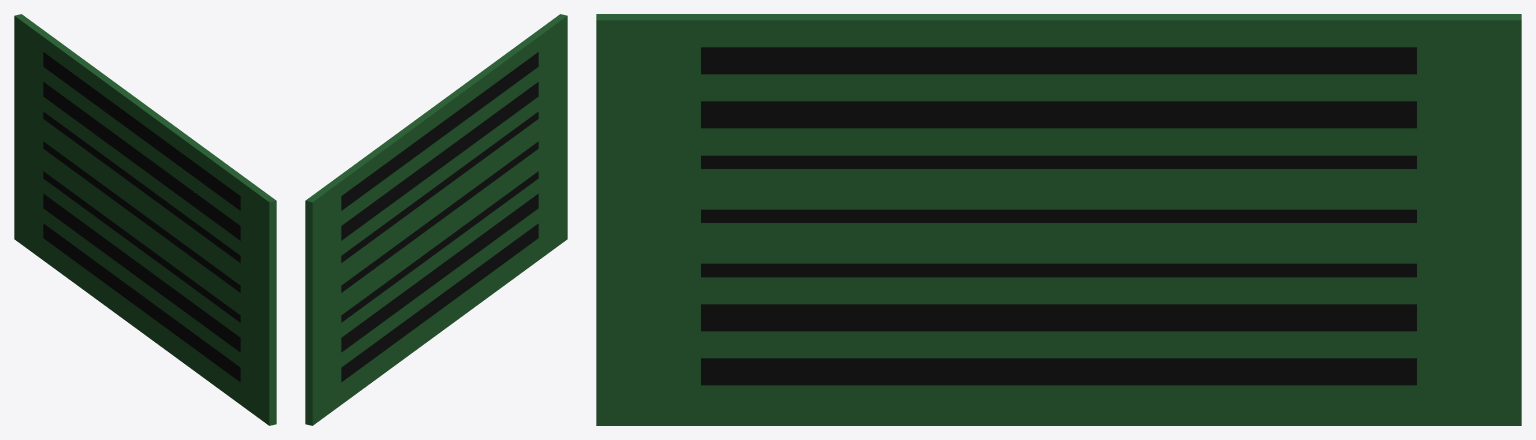
Rendered from tour_bus_open_top_rear_panel.glb.
3 renders of one model, left to right at view 1: azimuth 30°, elevation 25°; view 2: azimuth 150°, elevation 25°; view 3: azimuth 270°, elevation 25°, orthographic. The views are drawn at different scales.
Parts seen in each view (by area): view 1: body:compound; view 2: body:compound; view 3: body:compound.
Boxes of the visible parts, x1,y1,x2,y2 form: body:compound: (14,14,276,425); body:compound: (305,14,567,425); body:compound: (596,14,1521,425).
Bounding box in the file's own units: 0.0312 × 0.9375 × 1.94.
